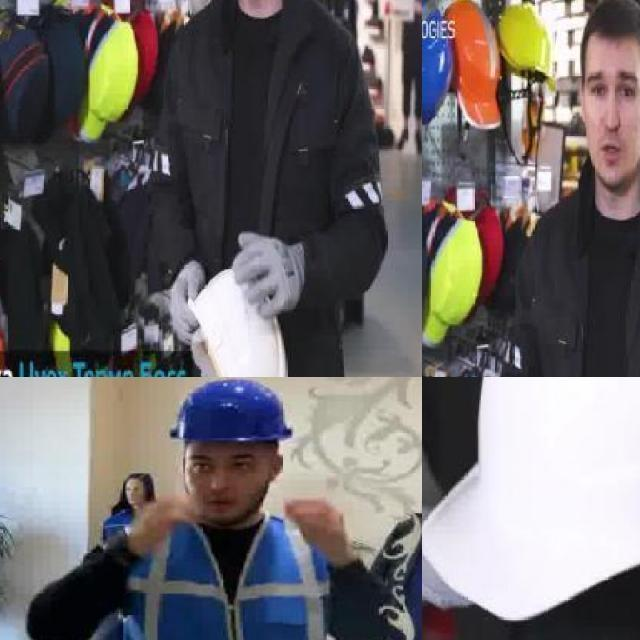apron: (422, 389, 476, 610), (233, 231, 306, 325), (170, 258, 202, 346)
